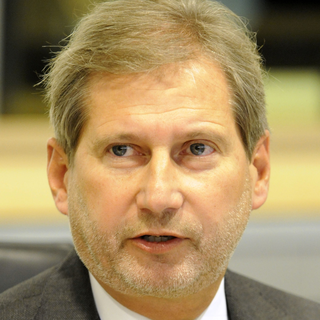eye: (101, 139, 146, 164), (177, 138, 221, 163)
